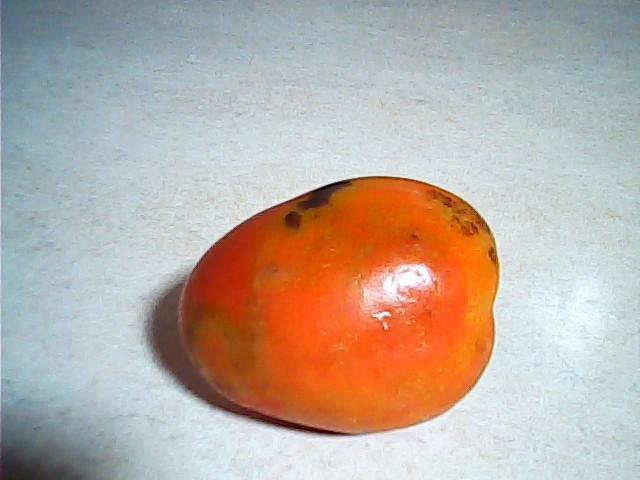defectuoso: (175, 172, 505, 432)
